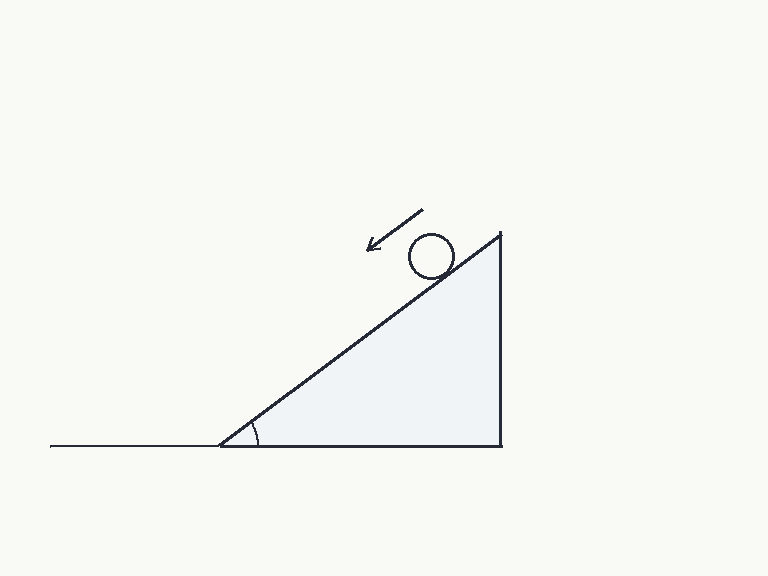ball: (406, 231, 456, 281)
ramp: (216, 231, 502, 447)
